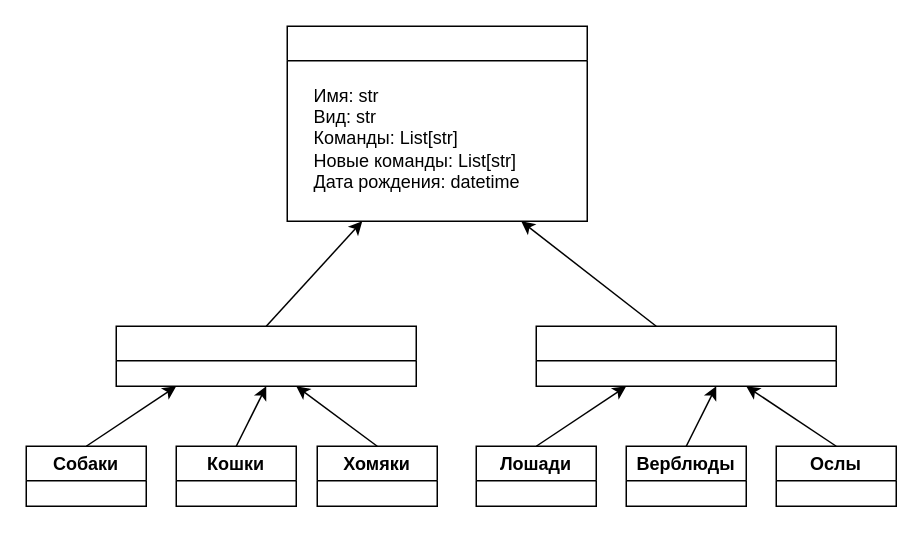
Some shapes in this 923 by 533 pixel diagram are drawn without their labels. Each missing label, with the box of its shape:
Вьючные животные: (535, 325, 836, 386)
Домашние животные: (115, 325, 416, 386)
Животные: (286, 25, 587, 221)
